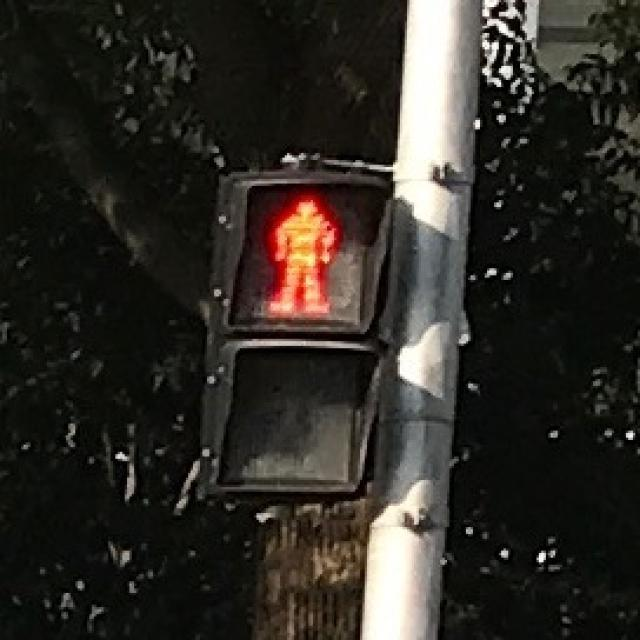red-crossing: (230, 172, 357, 328)
